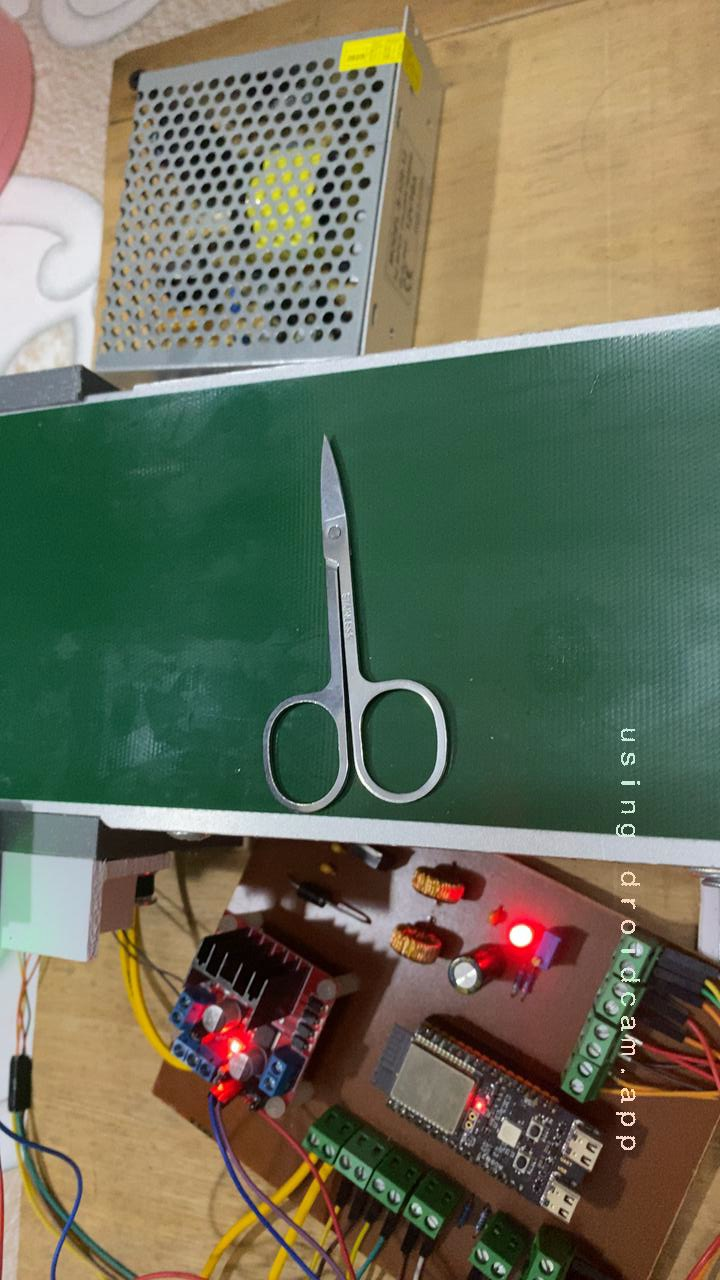scissor: (211, 421, 467, 821)
